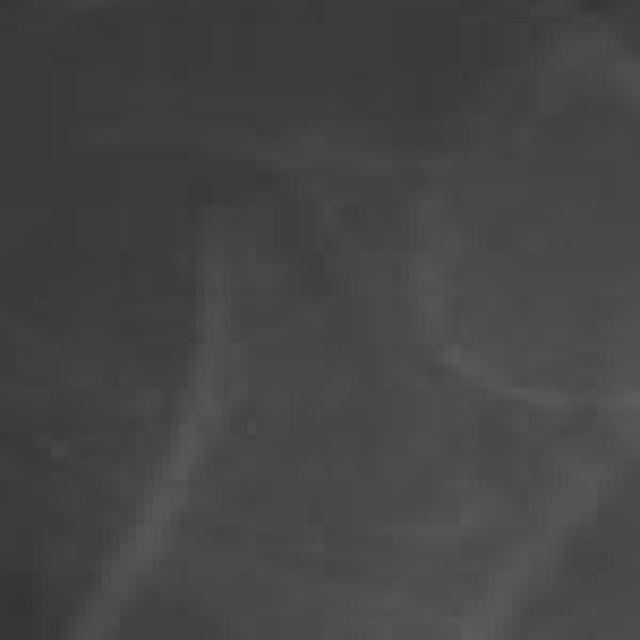fracture: (4, 4, 640, 640)
